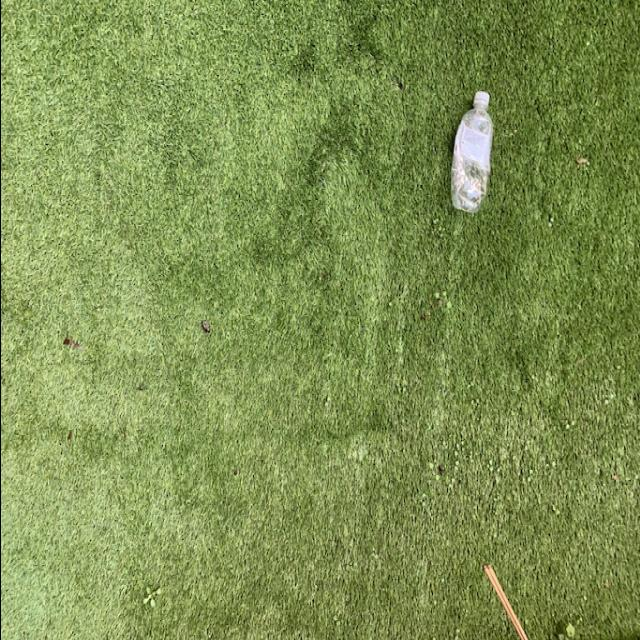litter: (446, 88, 494, 216)
